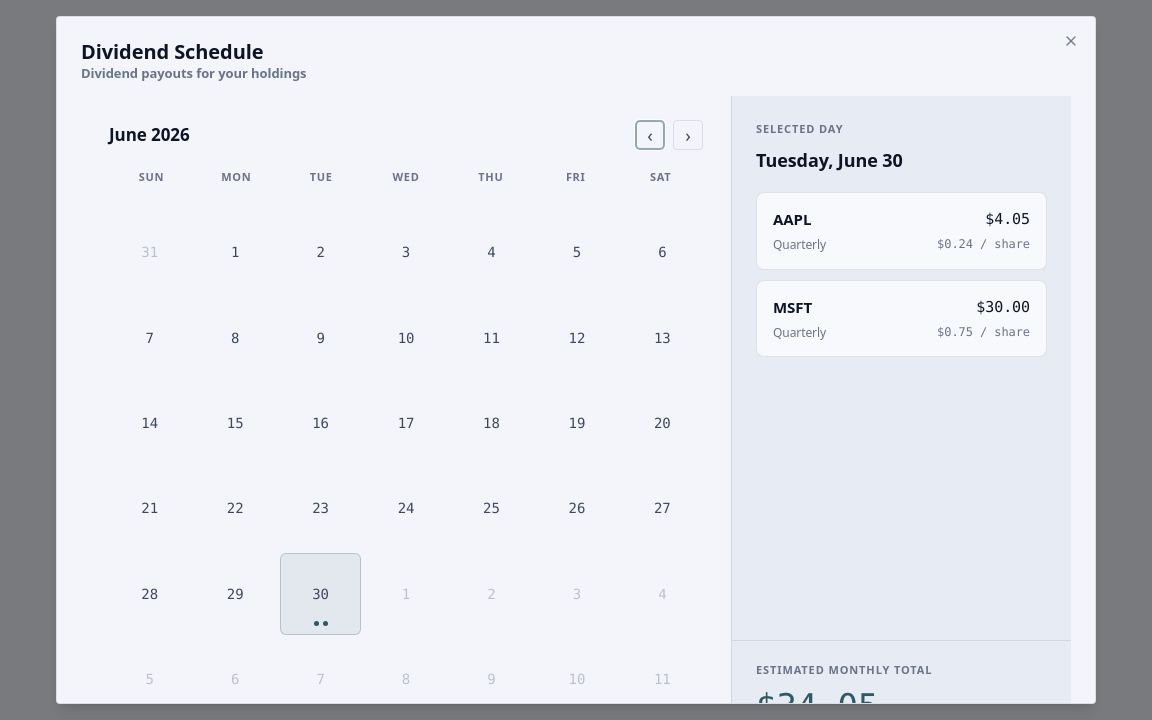
Test case: DividendScheduleModal › selects the first payout day of a past month
Click the button named "Previous month".
click(650, 135)  # box [635,120,665,150]
(page scrolled)
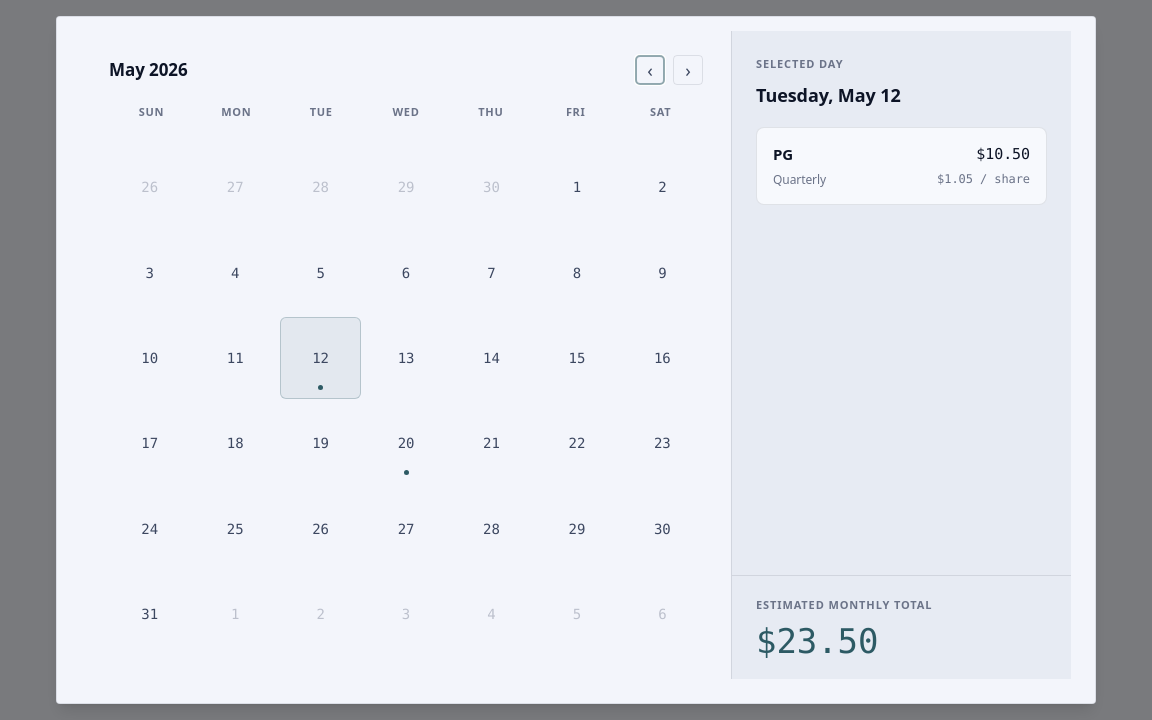
Now the heading "May 2026" is shown, box [109,58,188,82]
Now the heading "Tuesday, May 12" is shown, box [756,83,901,107]
Now the text "PG" is shown, box [773,144,793,164]
